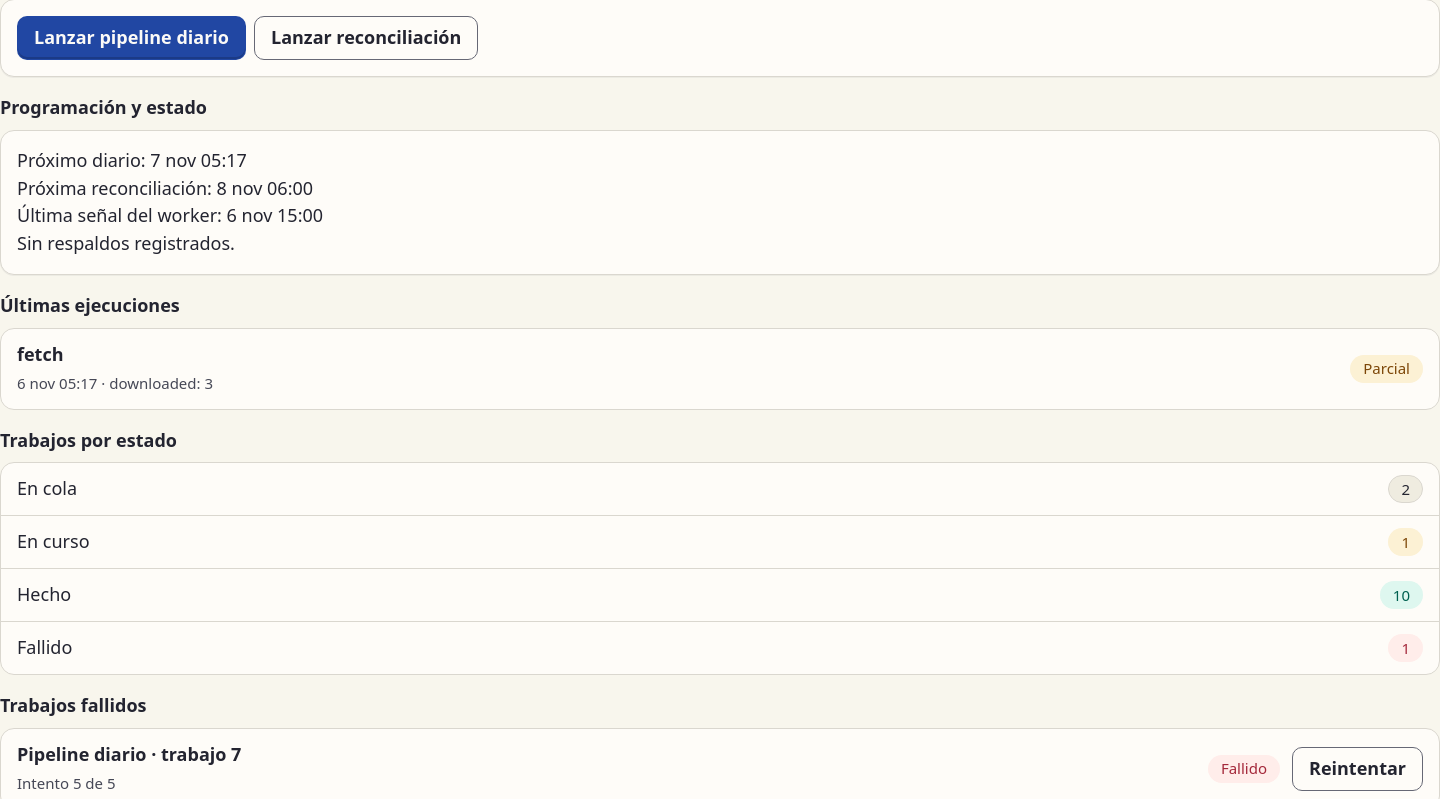
pipeline muestra el último run y reintenta un fallo
This screenshot has width=1440, height=799.
(page scrolled)
Expected: the text "fetch" is shown, x1=17 y1=342 x2=64 y2=366
Click the button "Reintentar": x=1358, y=769 x1=1292 y1=747 x2=1423 y2=791
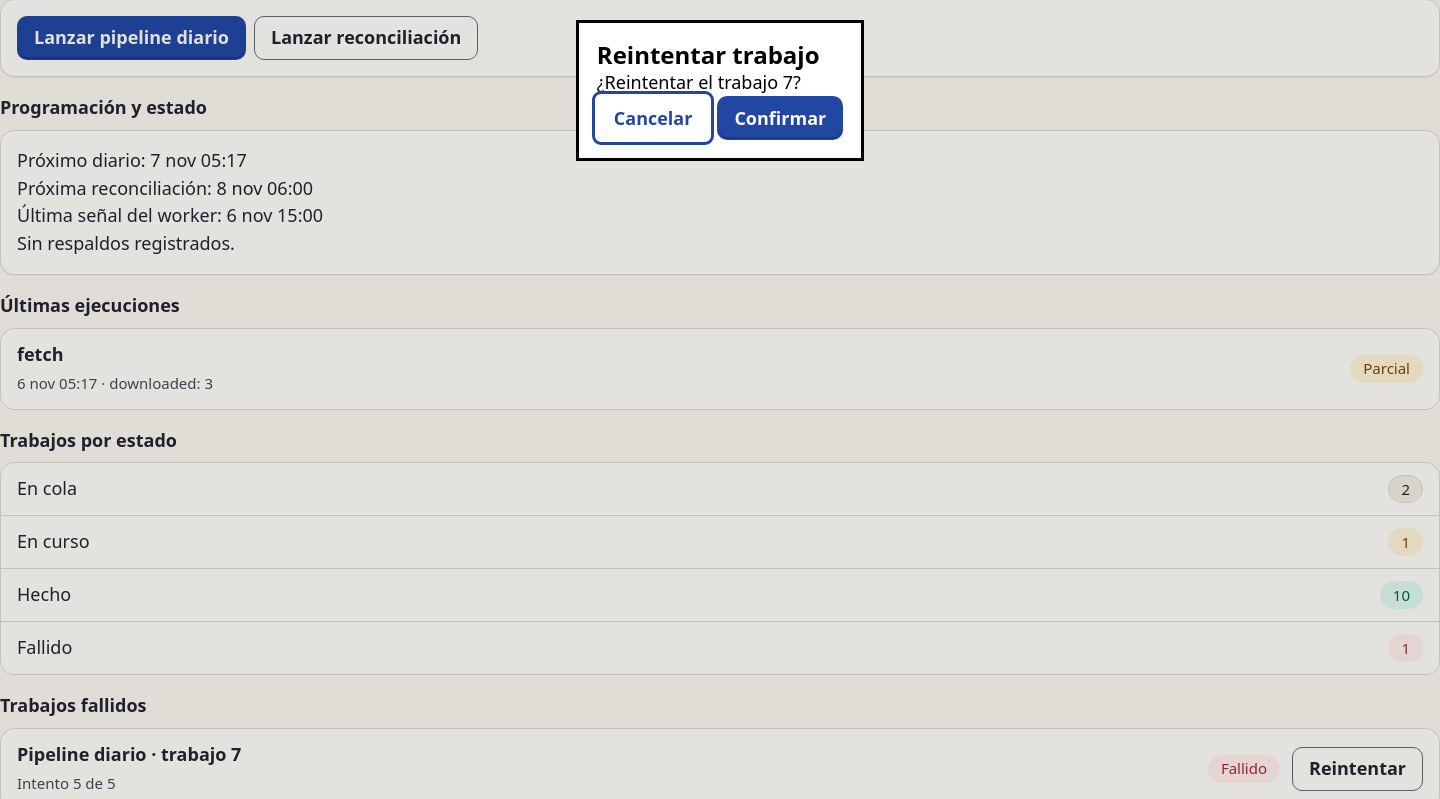
Click the button "Confirmar": x=780, y=118 x1=717 y1=96 x2=843 y2=140
(page scrolled)
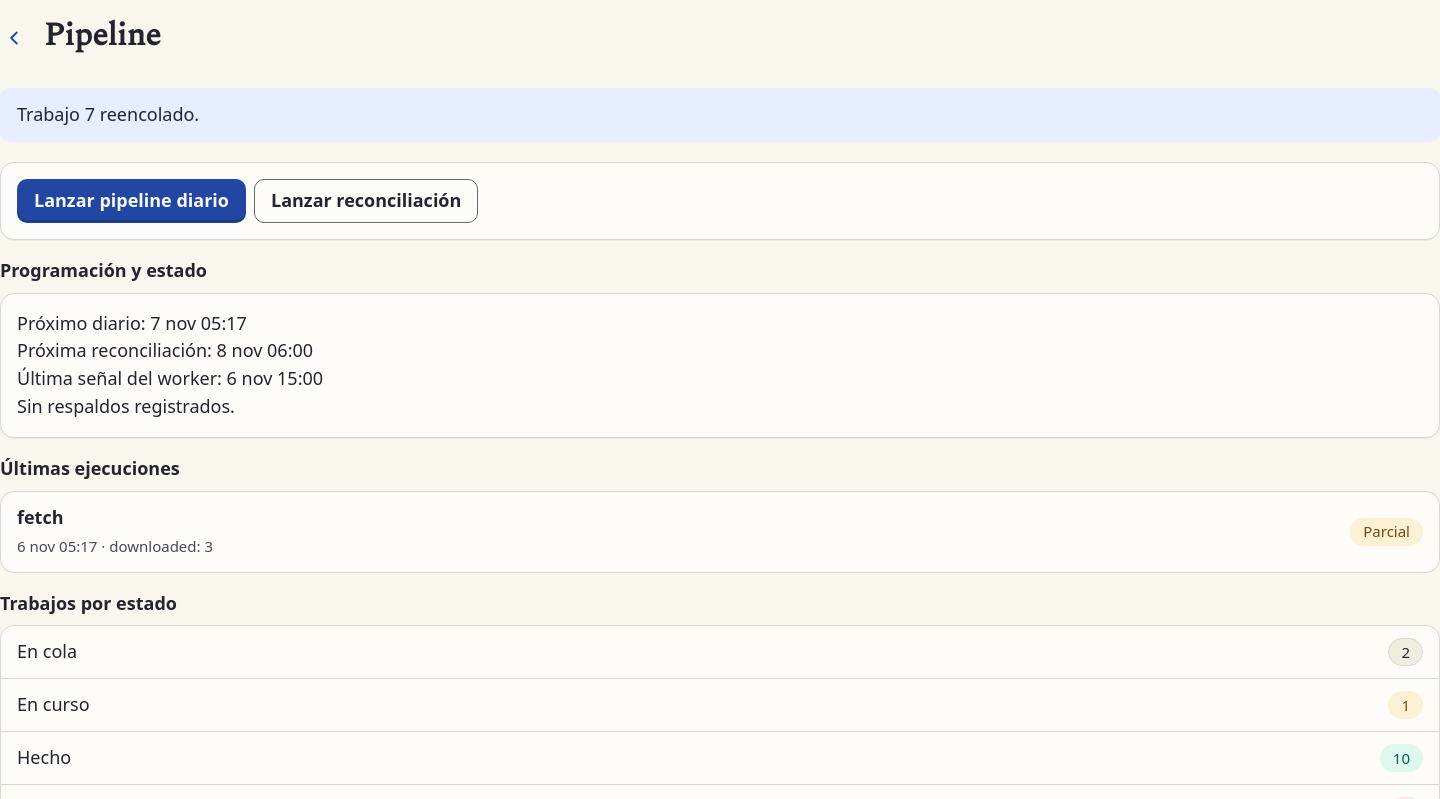
Expected: the message shows "reencolado", x1=17 y1=102 x2=199 y2=126
